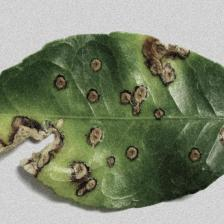canker: (2, 39, 208, 197)
